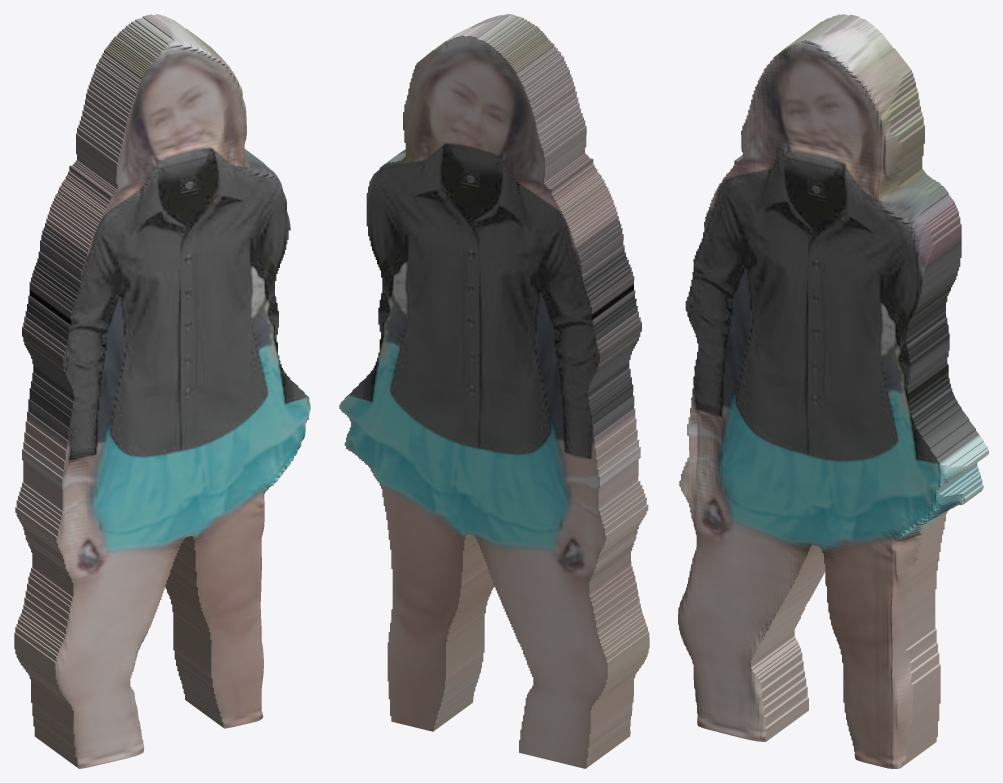
The model's file is avatar_ar_230538.glb.
3 renders of one model, left to right at view 1: azimuth 30°, elevation 25°; view 2: azimuth 150°, elevation 25°; view 3: azimuth 330°, elevation 25°, orthographic.
Parts seen in each view (by area): view 1: world; view 2: world; view 3: world.
Boxes of the visible parts, x1,y1,x2,y2 form: world: (14, 14, 310, 768); world: (339, 14, 649, 768); world: (678, 14, 988, 768).
Size of the model in its own units: 39.14 by 98.23 by 11.36.
